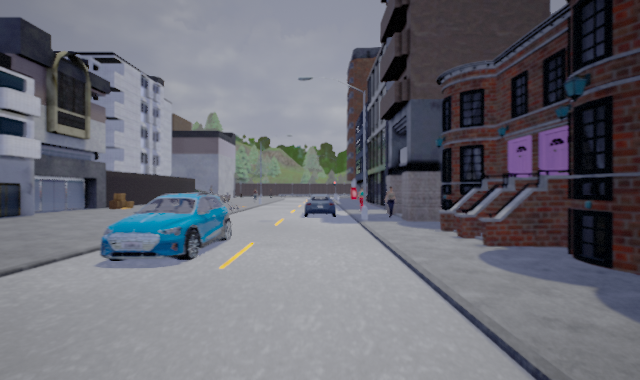pedestrian: (383, 184, 398, 218), (356, 185, 367, 212)
vehicle: (97, 191, 233, 264), (303, 193, 336, 217)
